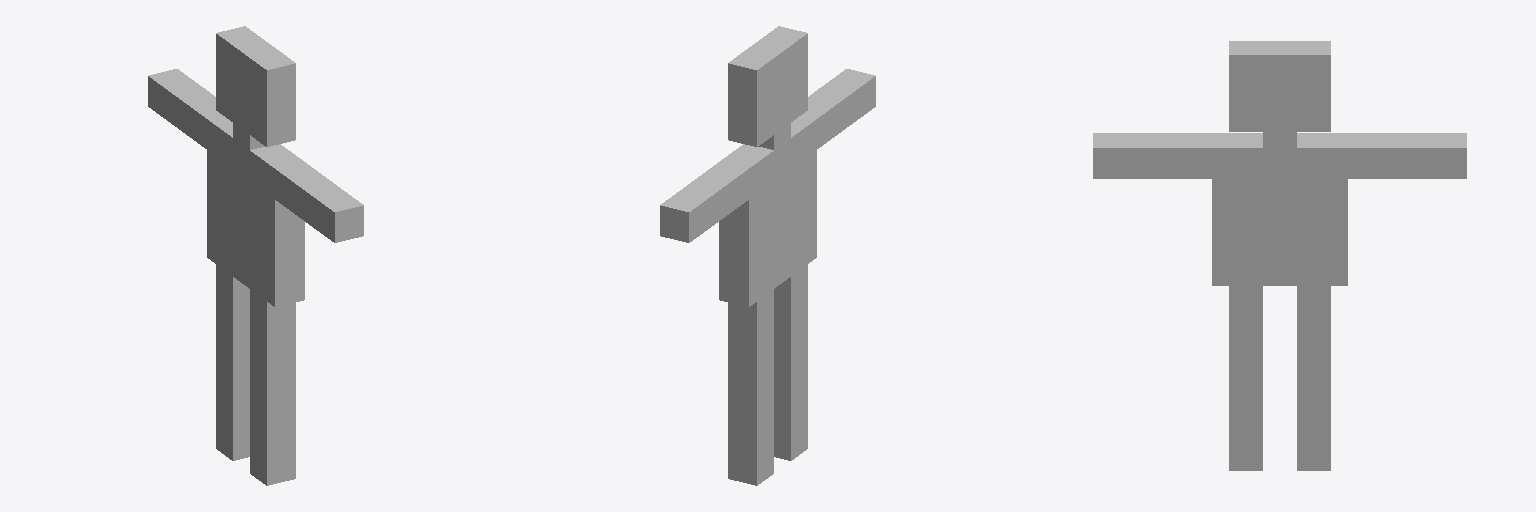
File: charWorking.obj
3 views of the same model, side by side, from view 1: azimuth 30°, elevation 25°; view 2: azimuth 150°, elevation 25°; view 3: azimuth 270°, elevation 25° (orthographic).
Parts seen in each view (by area): view 1: char.001; view 2: char.001; view 3: char.001.
Boxes of the visible parts, x1=… form: char.001: x1=148, y1=26, x2=363, y2=485; char.001: x1=660, y1=26, x2=875, y2=485; char.001: x1=1093, y1=41, x2=1466, y2=470.
Size of the model in its own units: 2 by 27 by 22.